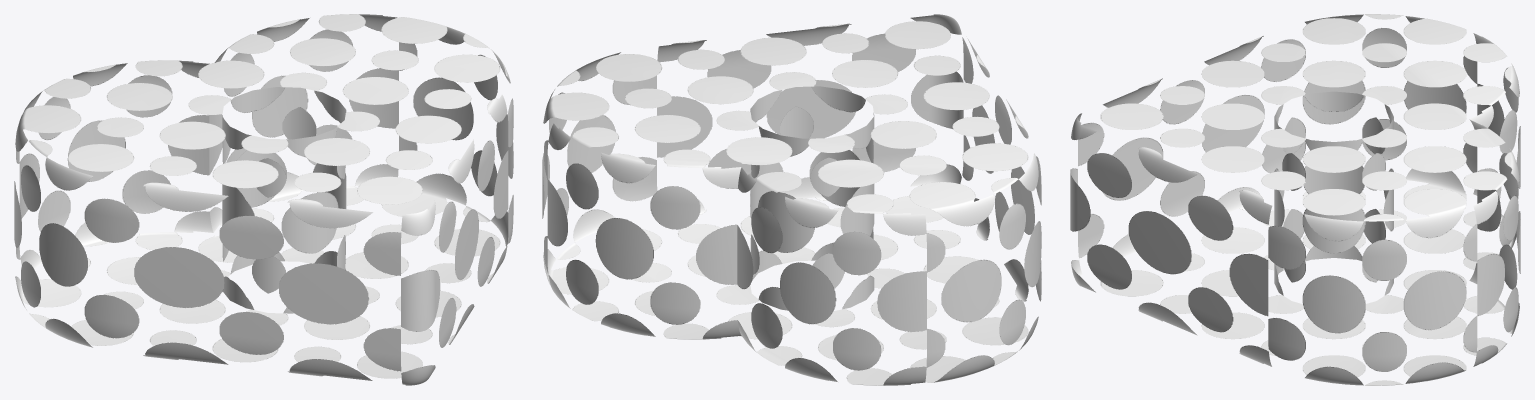
3 views of the same model, side by side, from view 1: azimuth 30°, elevation 25°; view 2: azimuth 150°, elevation 25°; view 3: azimuth 270°, elevation 25° (orthographic). The views are drawn at different scales.
Visible parts, largest first — view 1: Heart.012; view 2: Heart.012; view 3: Heart.012.
Boxes of the visible parts, x1,y1,x2,y2 form: Heart.012: [14, 14, 513, 385]; Heart.012: [542, 14, 1041, 385]; Heart.012: [1070, 14, 1520, 385].
Bounding box in the file's own units: 198 × 72 × 177.
